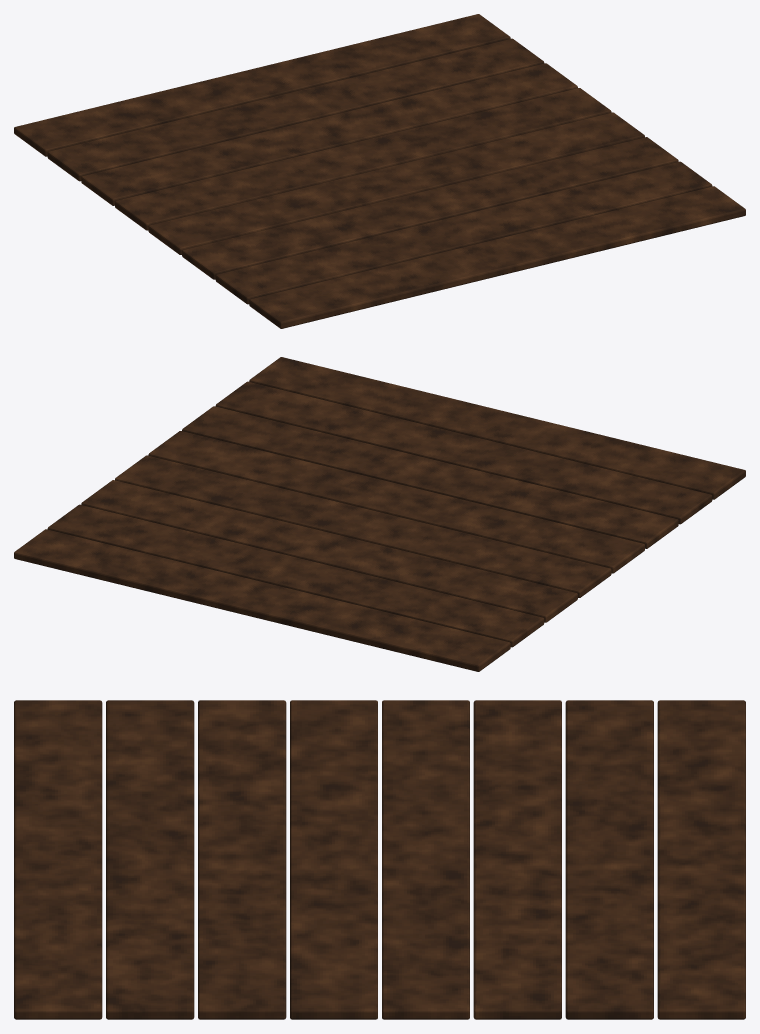
The model's file is room_floor_mine.glb.
The picture shows the model from 3 angles, top to bottom: view 1: azimuth 30°, elevation 25°; view 2: azimuth 150°, elevation 25°; view 3: azimuth 270°, elevation 25°; orthographic projection. The views are drawn at different scales.
Visible parts, largest first — view 1: room_floor_mine; view 2: room_floor_mine; view 3: room_floor_mine.
Part boxes in pixels (x1,y1,x2,y2): room_floor_mine: (14, 14, 745, 328); room_floor_mine: (14, 357, 745, 671); room_floor_mine: (14, 700, 745, 1019).
Bounding box in the file's own units: 2 × 0.03 × 1.99.
Materials: 1 (1 with a texture image).
